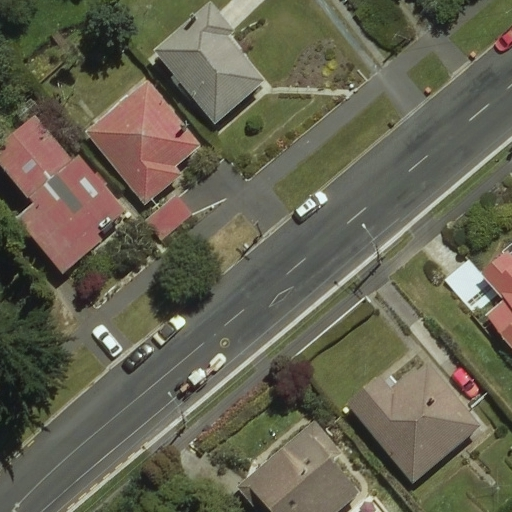DT: (353, 219, 388, 273), (160, 380, 191, 433)
